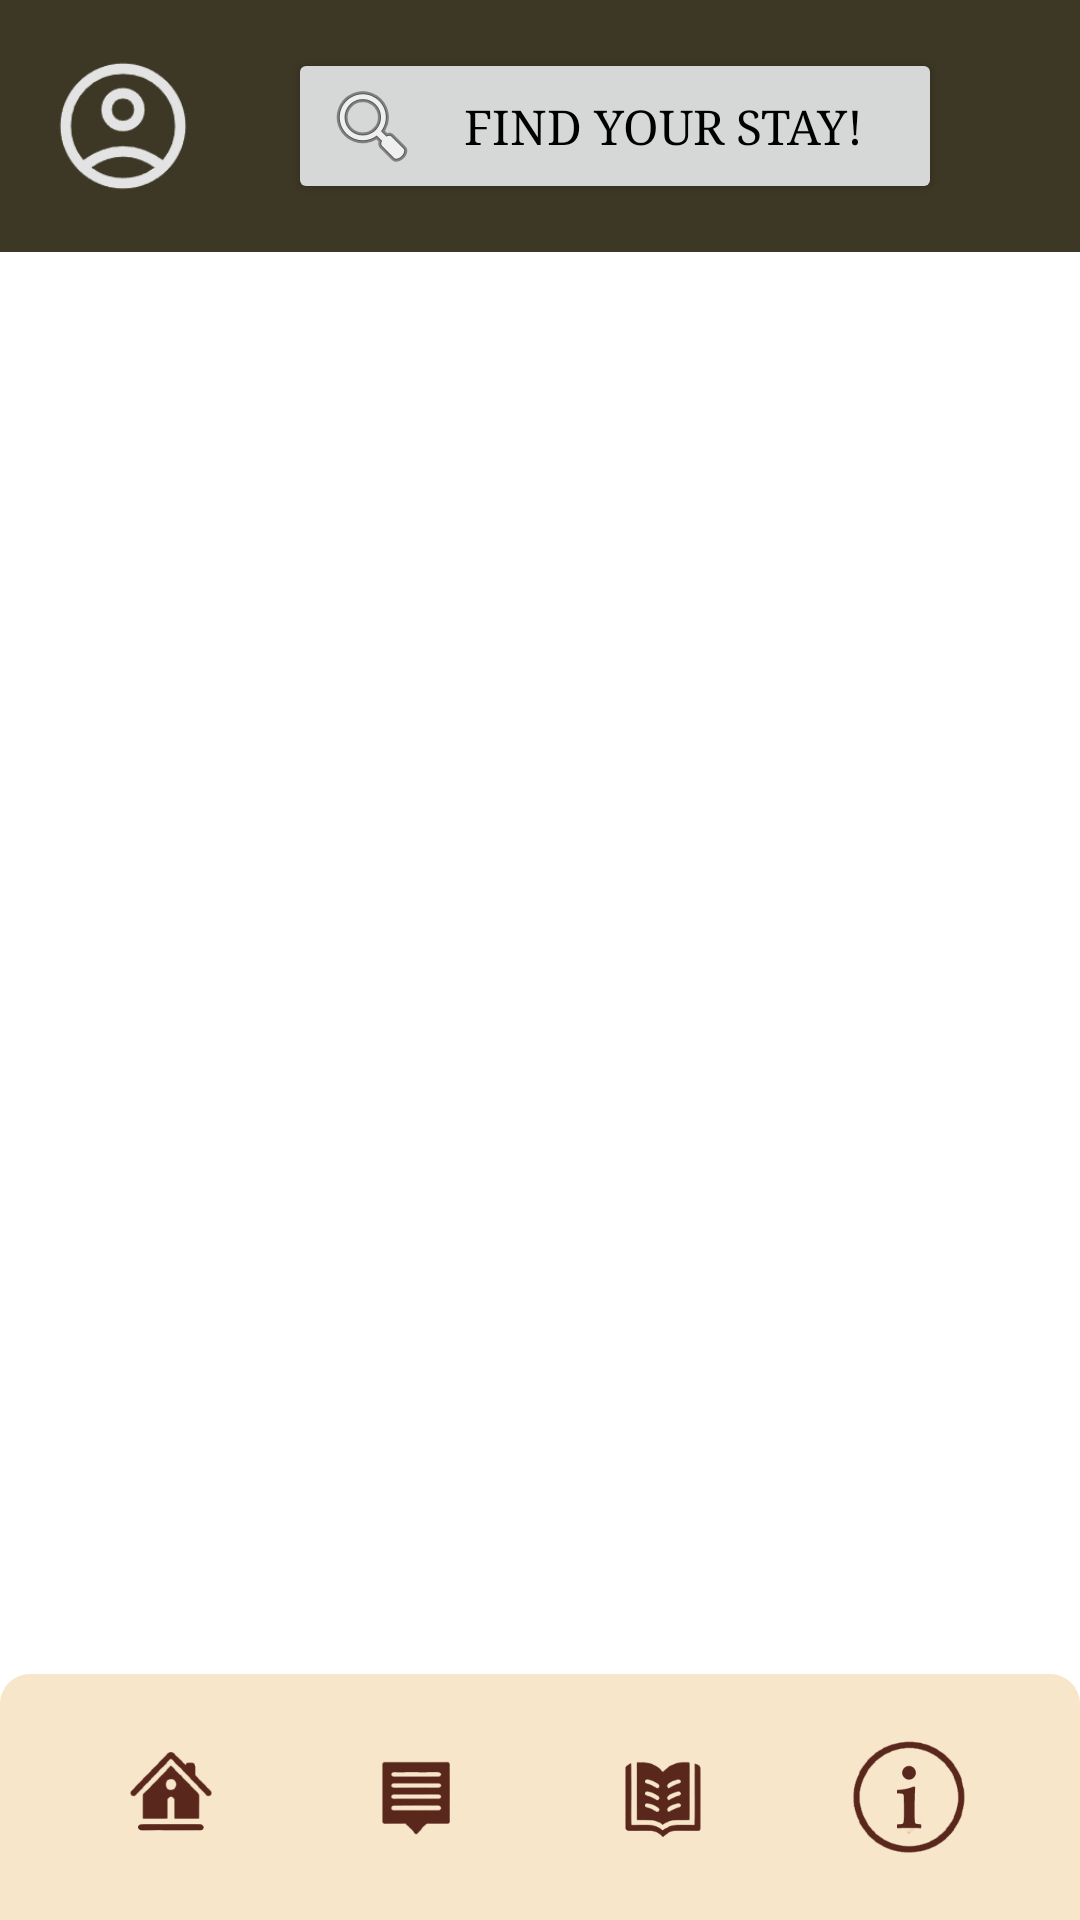

Screen size 1080*1920. Icon name, then its box in pixels as box(x1, y1, x2, y2):
Home: box(130, 1752, 212, 1831)
Information: box(853, 1741, 965, 1853)
Profile: box(60, 63, 186, 189)
